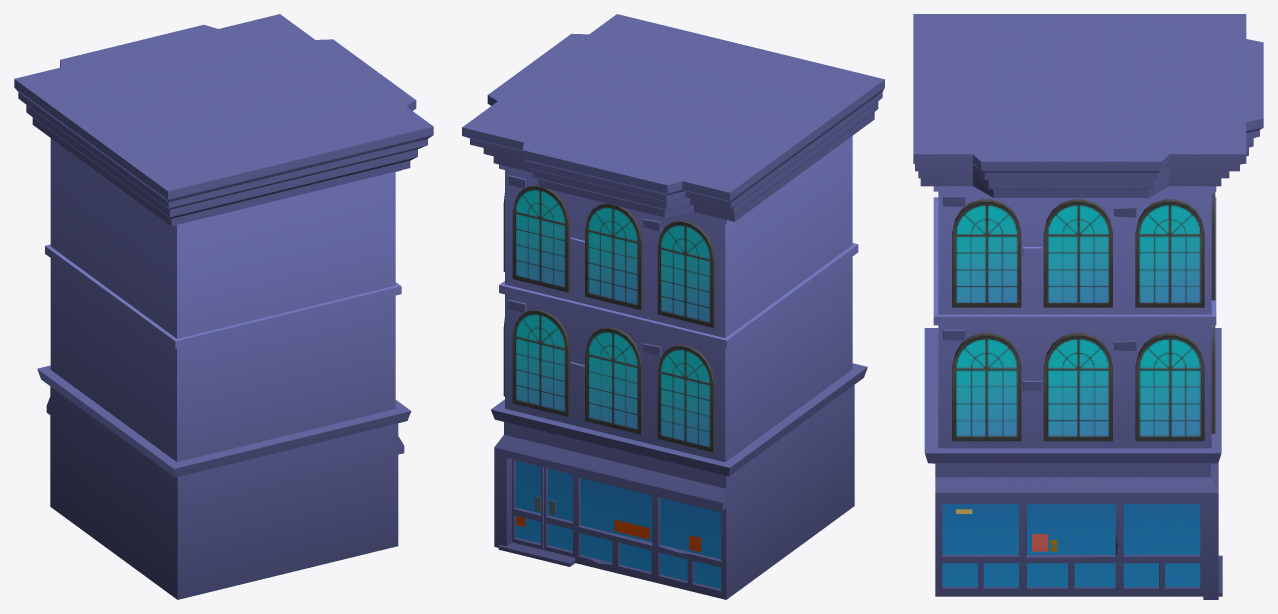
File: BLD1210004.fbx
3 renders of one model, left to right at view 1: azimuth 30°, elevation 25°; view 2: azimuth 150°, elevation 25°; view 3: azimuth 270°, elevation 25°, orthographic. The views are drawn at different scales.
Visible parts, largest first — view 1: smBLD1210004; view 2: smBLD1210004; view 3: smBLD1210004.
Part boxes in pixels (bbox=[...]): smBLD1210004: bbox=[14, 14, 433, 599]; smBLD1210004: bbox=[462, 14, 884, 599]; smBLD1210004: bbox=[913, 14, 1263, 599].
Bounding box in the file's own units: 911 × 1310 × 913.
Materials: 1 (1 with a texture image).
